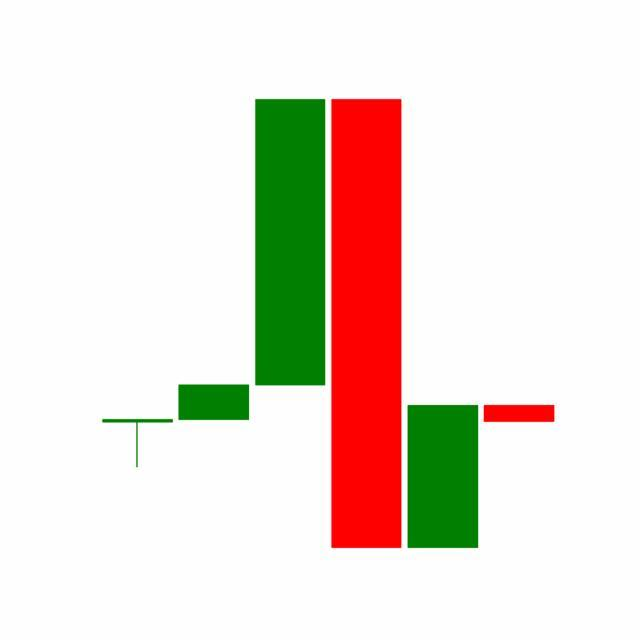Marubozu: (404, 404, 482, 550)
